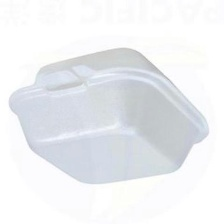foam_box: (5, 43, 213, 189)
